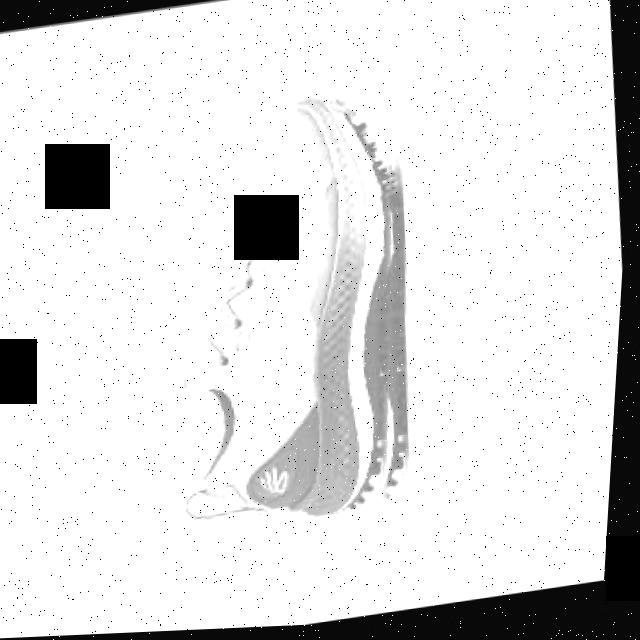shoe: (149, 85, 438, 539)
